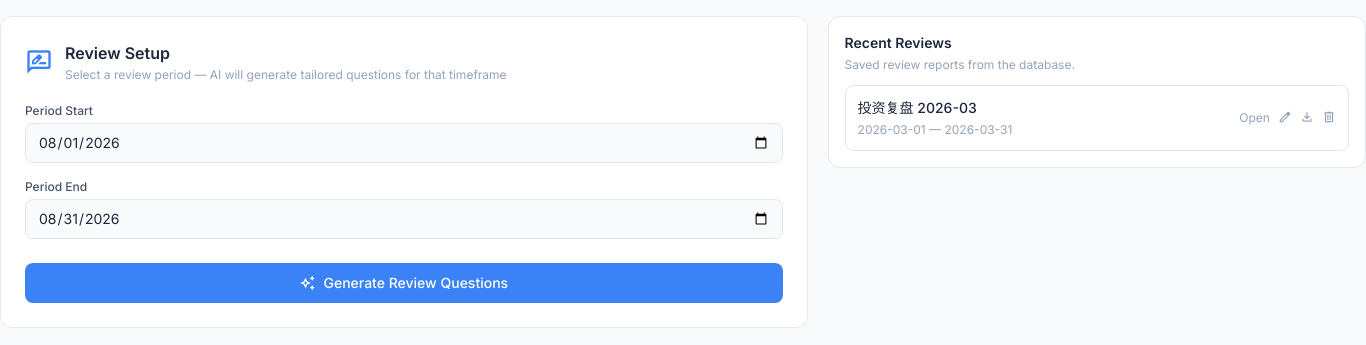
Scenario: AI Advisor debug logs › deletes a saved review from history actions
Expected: the text "投资复盘 2026-03" is shown, 858,99 -> 977,116
Click the button titled "Delete review" at (1329, 118), box 1322,106 -> 1336,130
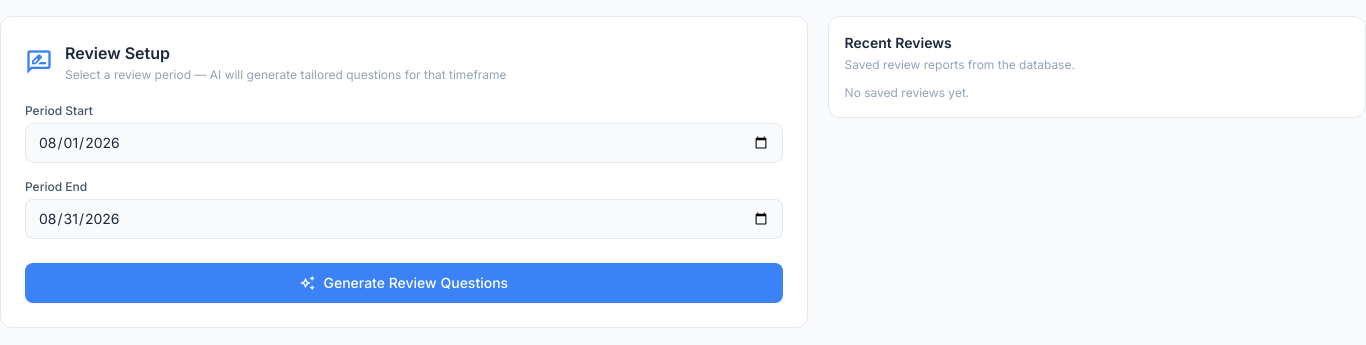
Result: the text "No saved reviews yet." is shown at 845,85 -> 969,100
